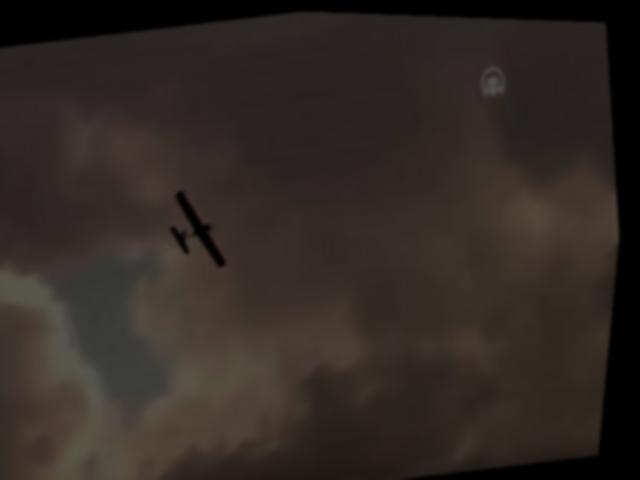uav: (161, 176, 239, 275)
